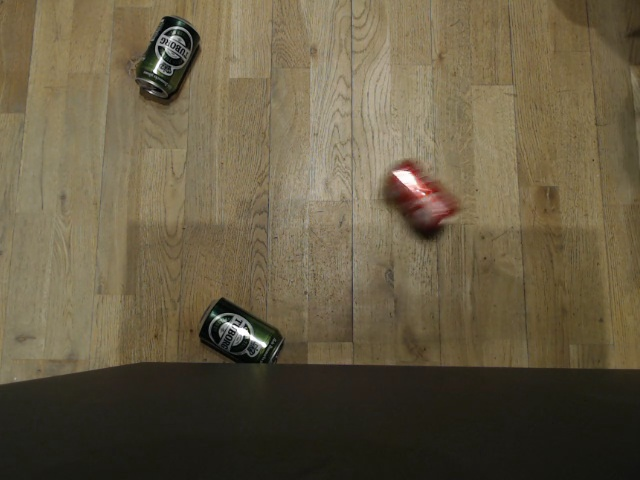beer: (193, 294, 286, 368), (133, 14, 204, 102)
cola: (382, 157, 460, 240)
